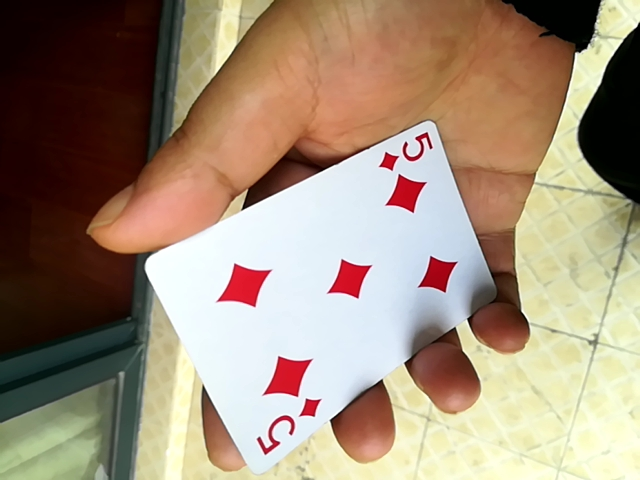fk 5: (132, 111, 487, 474)
